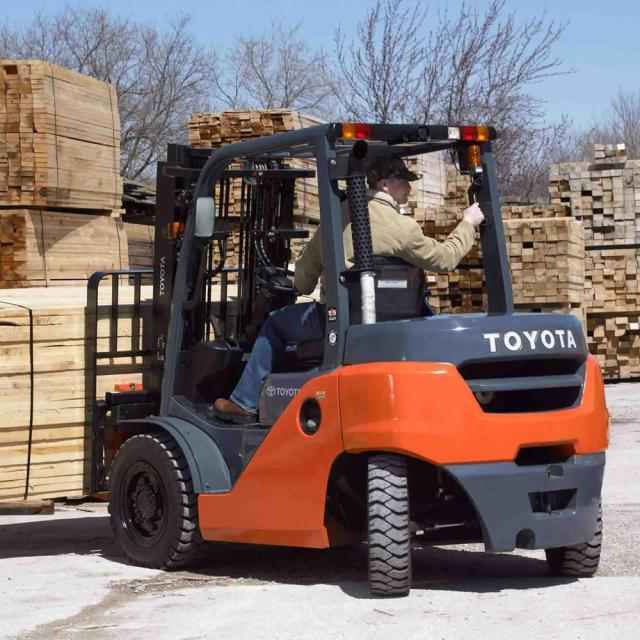Person: (212, 156, 483, 424)
